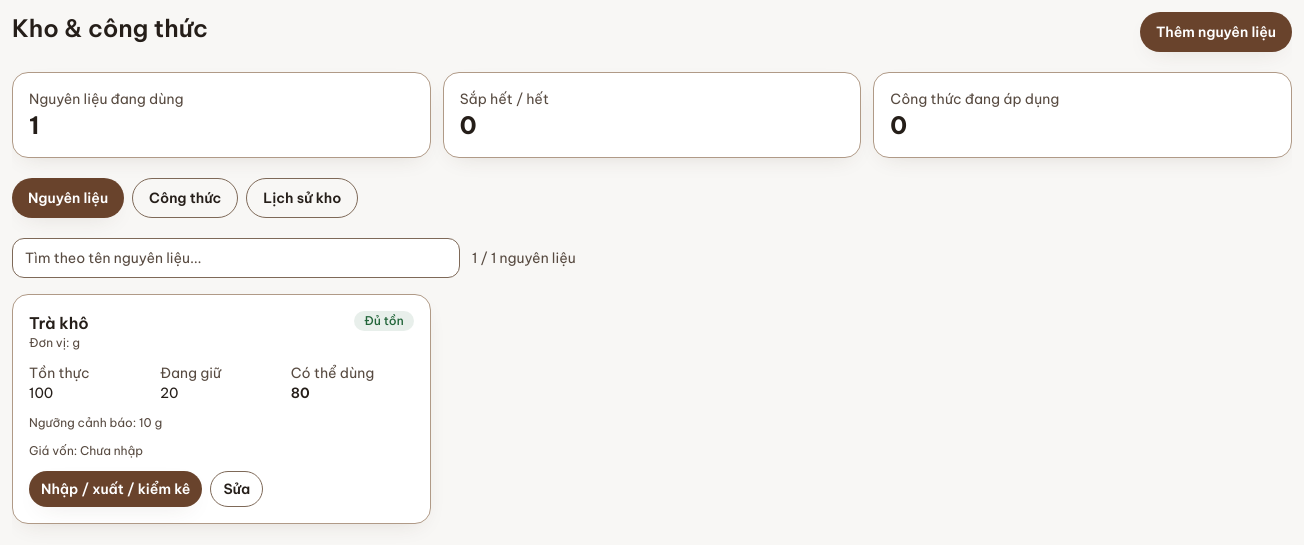
Test: inventory management › loads paginated ledger only when the history tab is opened
Expected: the heading "Trà khô" is shown, [29,311,89,335]
Click the tab "Lịch sử kho" at (302, 198), box [246,178,358,218]
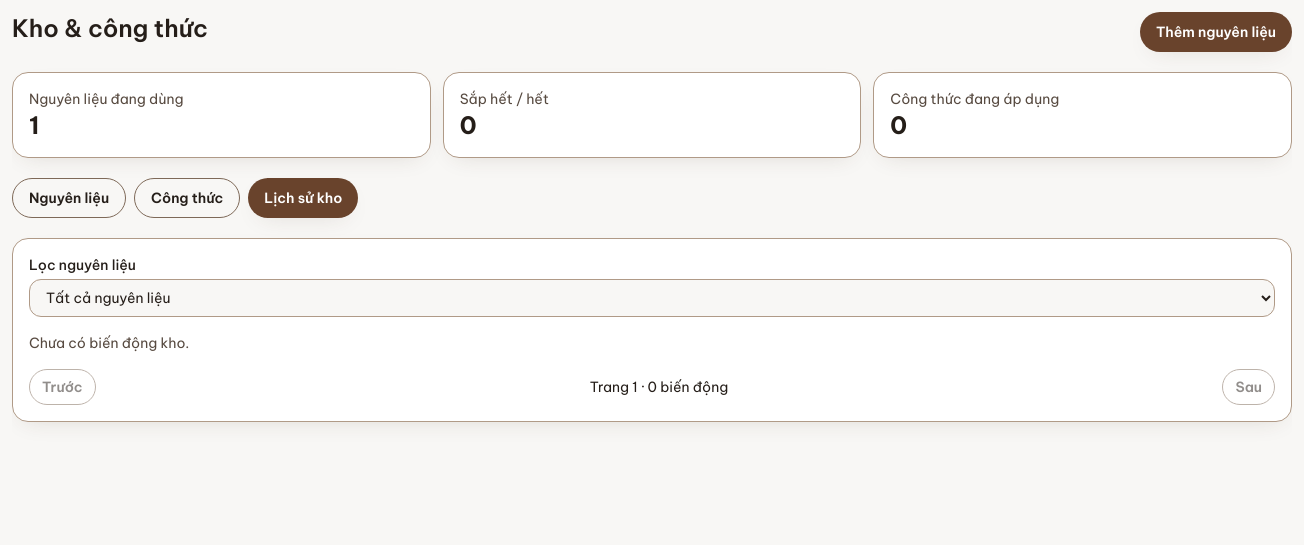
Expected: the text "Chưa có biến động kho." is shown, [29,334,189,352]
